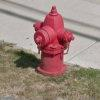Hydrant: (24, 1, 79, 75)
